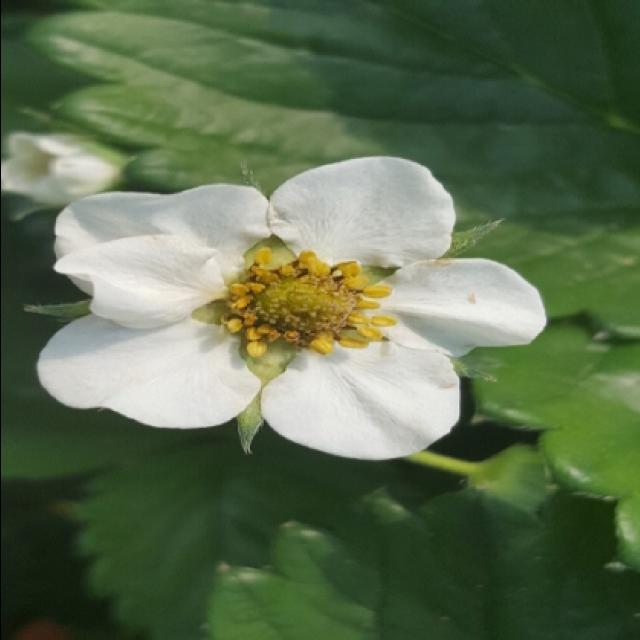Blossom Blight: (216, 246, 398, 363)
